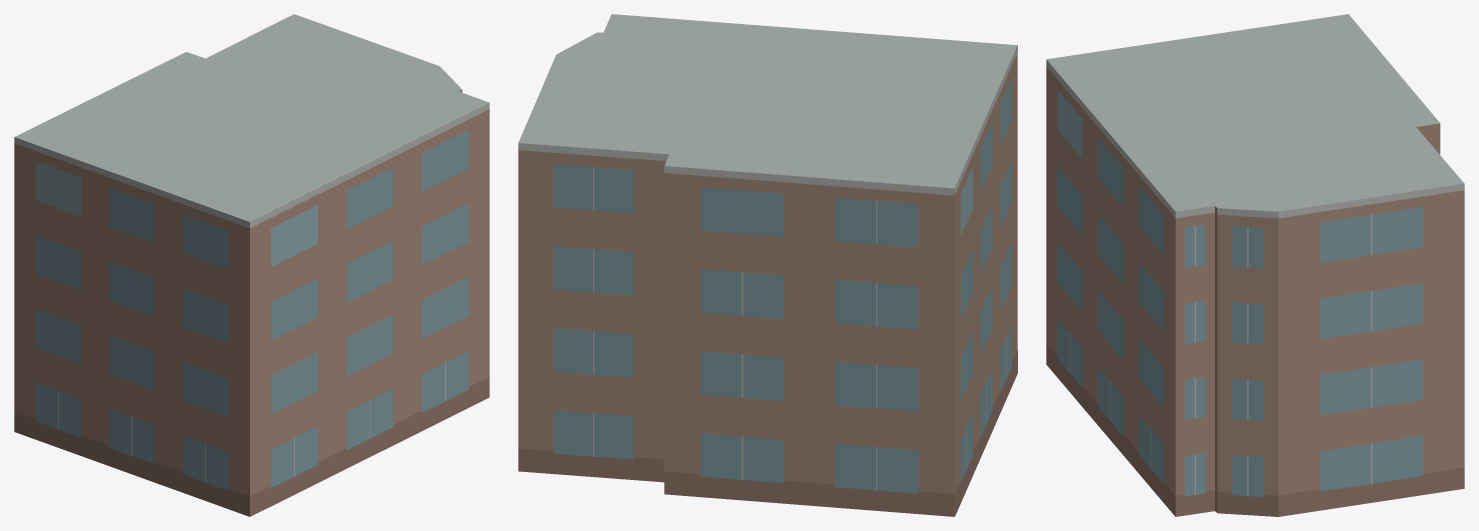
File: survey-upis-32608839.glb
The picture shows the model from 3 angles, left to right: view 1: azimuth 30°, elevation 25°; view 2: azimuth 150°, elevation 25°; view 3: azimuth 270°, elevation 25°; orthographic projection. The views are drawn at different scales.
Parts seen in each view (by area): view 1: survey-upis-32608839.tmp; view 2: survey-upis-32608839.tmp; view 3: survey-upis-32608839.tmp.
Part boxes in pixels (x1,y1,x2,y2): survey-upis-32608839.tmp: (14,14,489,516); survey-upis-32608839.tmp: (518,14,1017,516); survey-upis-32608839.tmp: (1046,14,1464,516).
Size of the model in its own units: 15.72 by 11.3 by 14.05.
